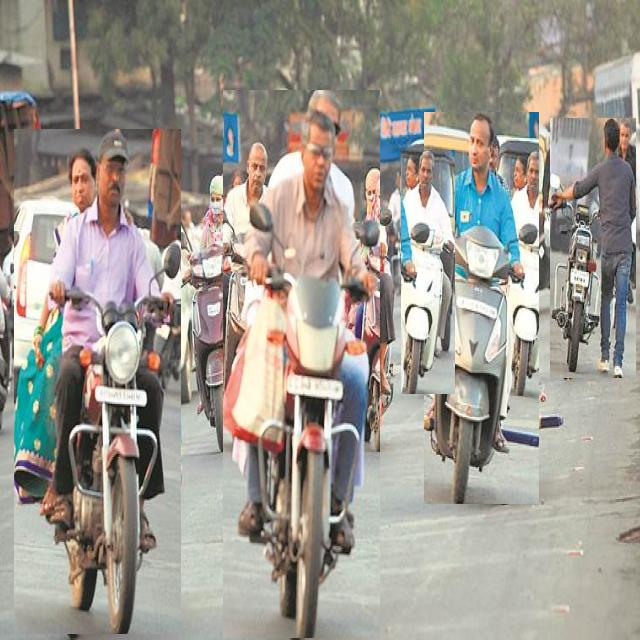autorickshaw: (495, 126, 555, 289)
car: (121, 200, 194, 401)
motorcycle: (224, 90, 380, 638), (14, 130, 181, 634), (425, 112, 539, 504), (550, 119, 636, 378), (176, 168, 241, 451), (401, 150, 455, 394)
